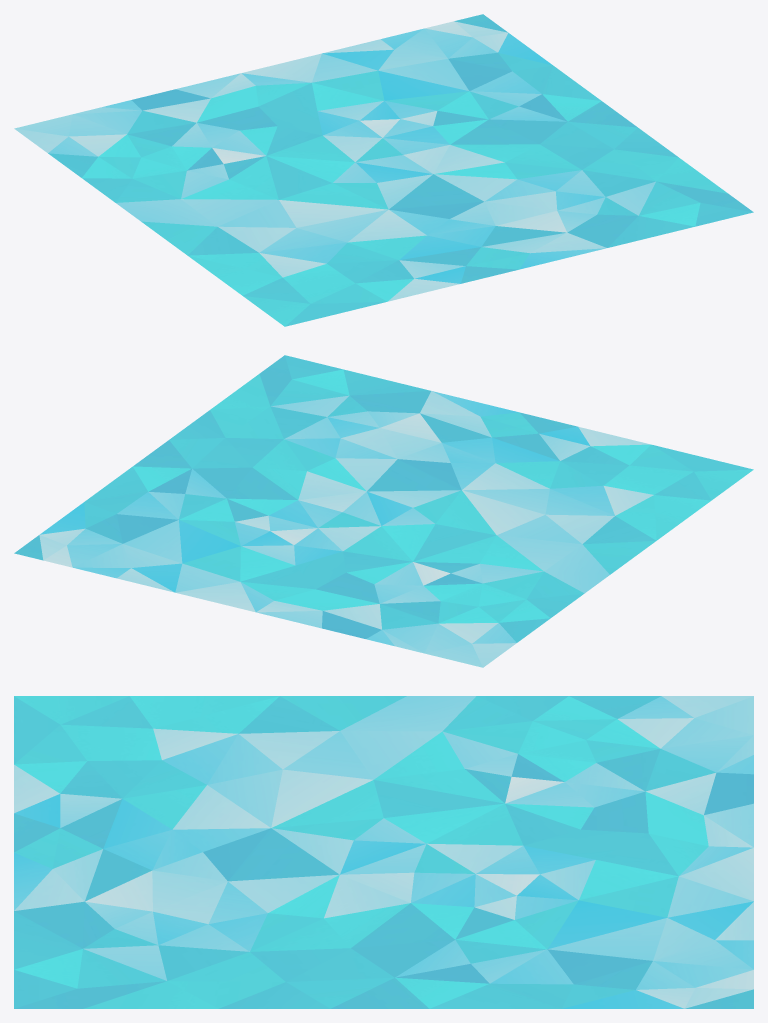
The model's file is GL-Water-part-01-LOD2.fbx.
The picture shows the model from 3 angles, top to bottom: view 1: azimuth 30°, elevation 25°; view 2: azimuth 150°, elevation 25°; view 3: azimuth 270°, elevation 25°; orthographic projection. The views are drawn at different scales.
Parts seen in each view (by area): view 1: GL_Water_part_01; view 2: GL_Water_part_01; view 3: GL_Water_part_01.
Boxes of the visible parts, x1=… form: GL_Water_part_01: x1=14, y1=14, x2=753, y2=326; GL_Water_part_01: x1=14, y1=355, x2=753, y2=667; GL_Water_part_01: x1=14, y1=696, x2=753, y2=1008.
Bounding box in the file's own units: 12 × 0 × 12.
